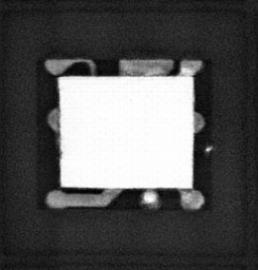DIE_INK: (204, 144, 215, 152)
